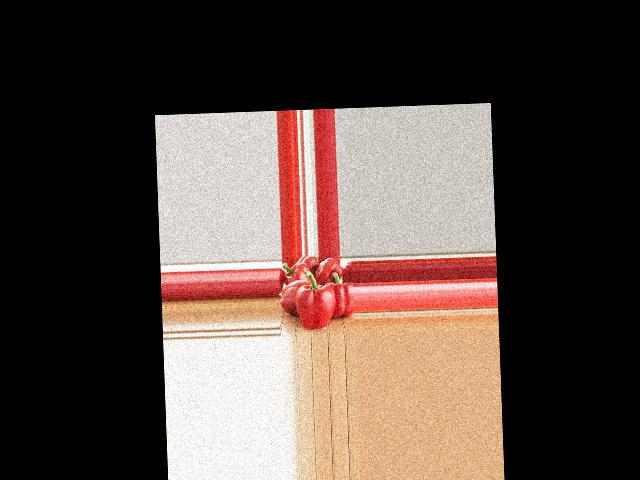bell_pepper: (280, 261, 310, 286)
